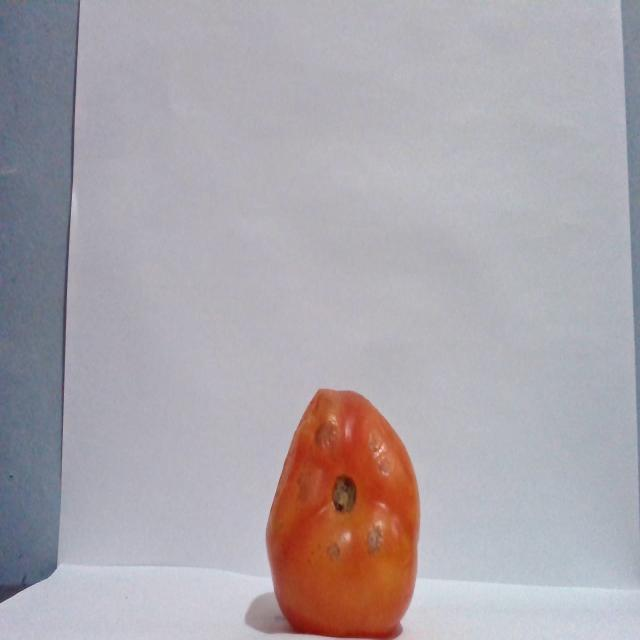Red: (264, 386, 421, 637)
